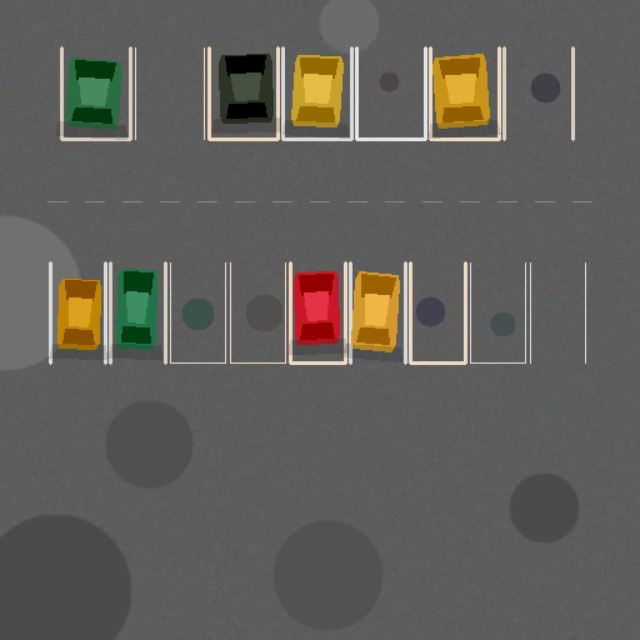space-empty: (135, 48, 204, 139), (356, 48, 425, 139), (504, 48, 572, 139), (170, 262, 225, 362), (230, 262, 285, 362), (410, 262, 465, 362), (470, 262, 525, 362), (530, 262, 585, 362)
space-occupied: (61, 48, 130, 139), (209, 48, 278, 139), (282, 48, 351, 139), (430, 48, 499, 139), (50, 262, 105, 362), (110, 262, 165, 362), (290, 262, 345, 362), (350, 262, 405, 362)
